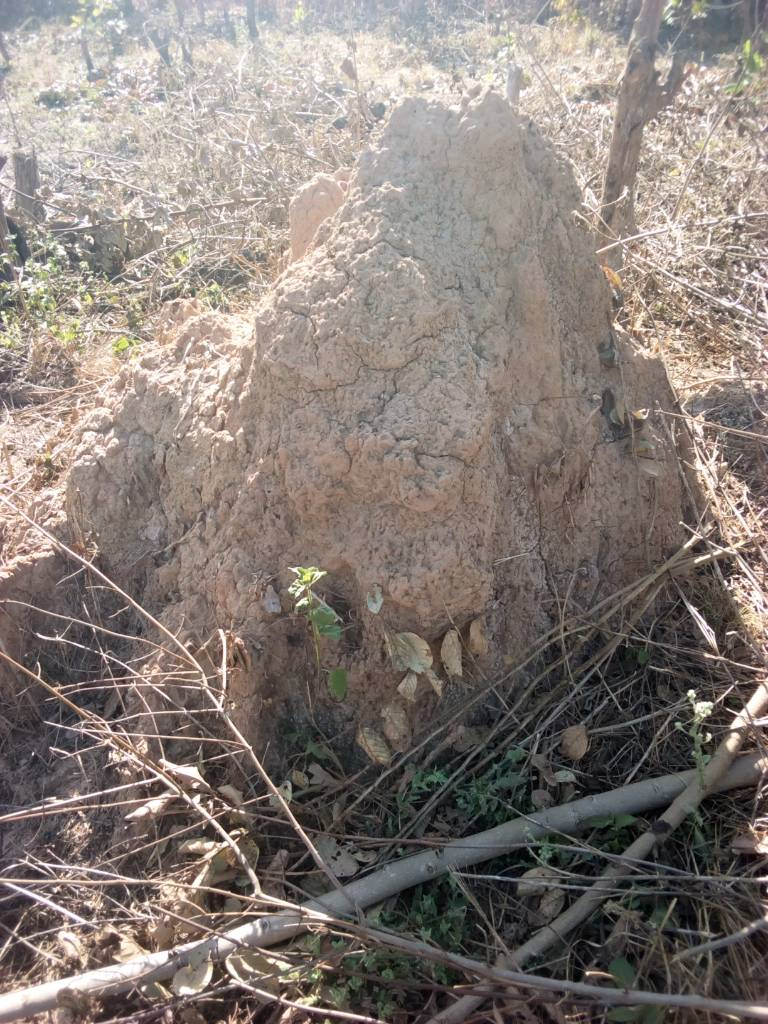Termites: (118, 94, 655, 658)
